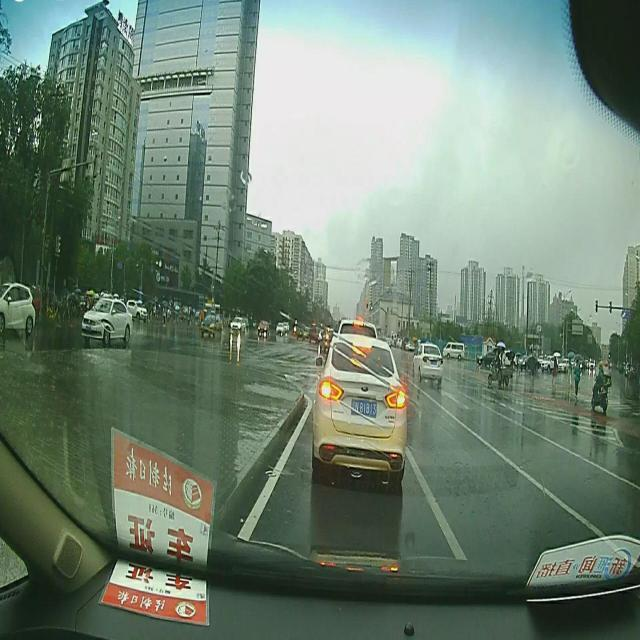car: (310, 326, 407, 476), (80, 296, 132, 346), (0, 284, 35, 332), (410, 342, 442, 388), (201, 311, 224, 333)
